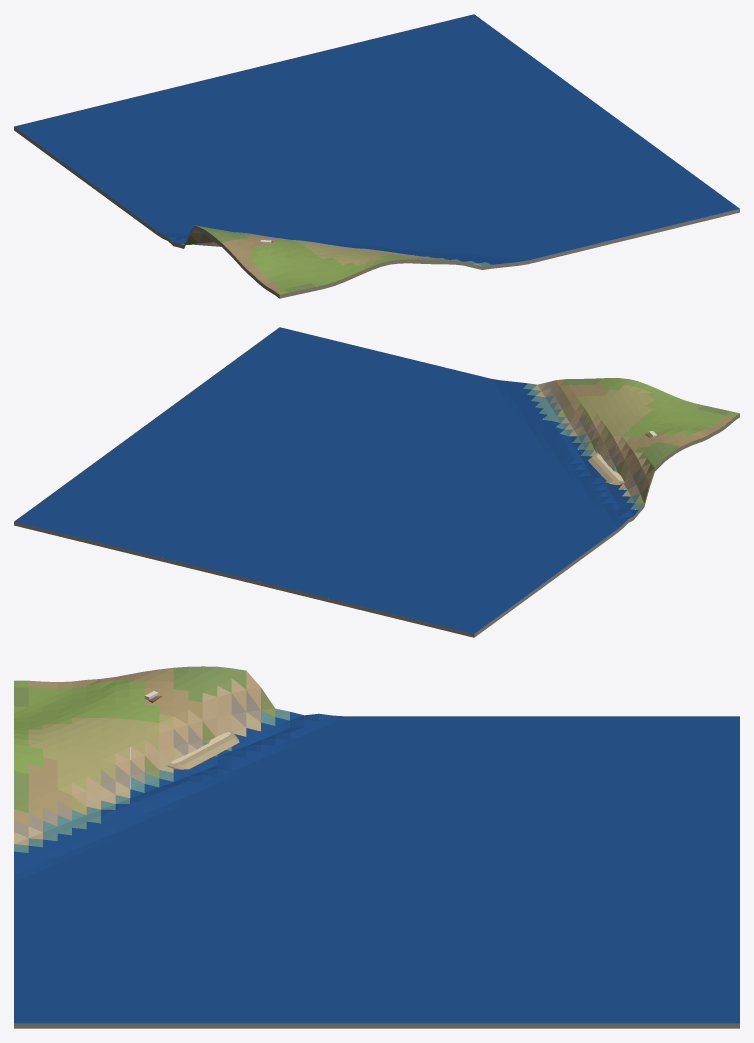
File: parca_+11_+1-uzak.glb
3 renders of one model, top to bottom at view 1: azimuth 30°, elevation 25°; view 2: azimuth 150°, elevation 25°; view 3: azimuth 270°, elevation 25°, orthographic. The views are drawn at different scales.
Parts seen in each view (by area): view 1: parca_+11_+1_arazi_uzak; view 2: parca_+11_+1_arazi_uzak; view 3: parca_+11_+1_arazi_uzak.
Part boxes in pixels (<box>): parca_+11_+1_arazi_uzak: <box>14,14,739,298</box>; parca_+11_+1_arazi_uzak: <box>14,327,739,637</box>; parca_+11_+1_arazi_uzak: <box>14,666,739,1028</box>.
Size of the model in its own units: 1000 by 83.99 by 1000.
